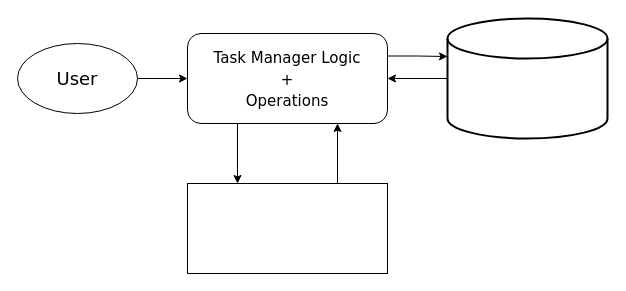
This 626x291 diagram has some shape labels left out. The shapes that lost their labels are listed below. From the top down, each one's centre as x and y in pixels, then its label:
(x=527, y=78): Persistent Storage (SQLite Database)
(x=287, y=228): In-Memory Storage (Priority Queue + Vector)
